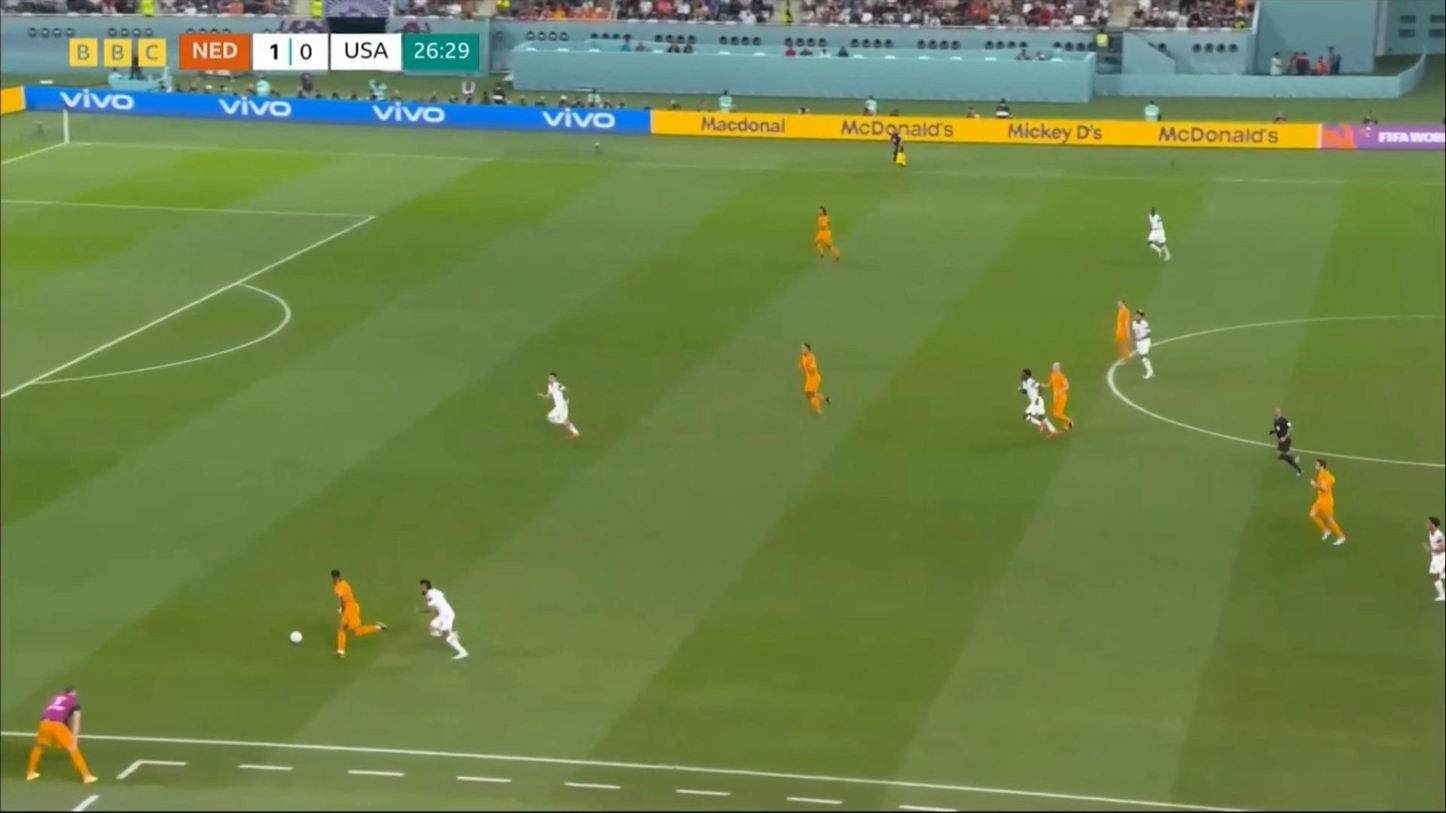Ball: (288, 630, 306, 646)
Player: (25, 687, 99, 786), (328, 566, 390, 659), (415, 576, 469, 667), (1303, 458, 1350, 555), (537, 368, 584, 452), (1014, 366, 1058, 441), (795, 337, 832, 423), (1035, 362, 1076, 436), (1418, 508, 1446, 607), (1129, 309, 1156, 382), (811, 205, 843, 264), (1143, 205, 1172, 266), (1108, 301, 1134, 367)
Ref: (1270, 404, 1304, 477), (886, 127, 908, 175)
